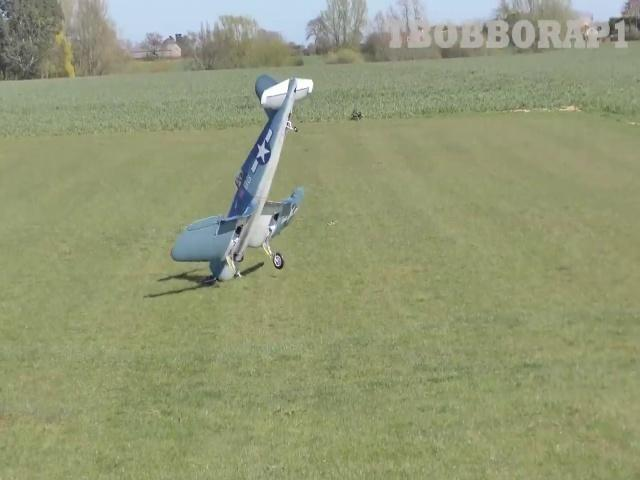Airplane: (170, 74, 313, 286)
